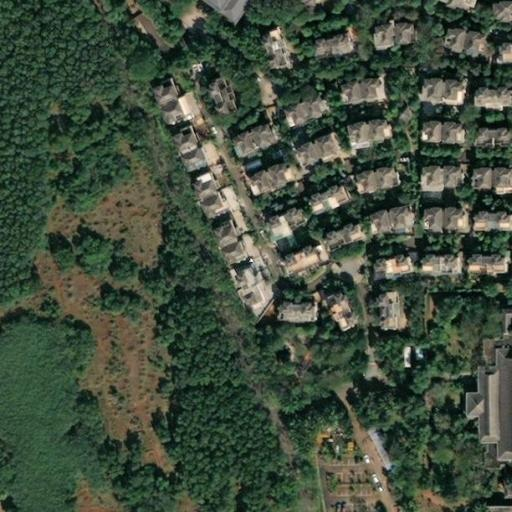building: (457, 333, 512, 465), (129, 5, 175, 54), (163, 114, 200, 163), (204, 211, 238, 260), (184, 161, 218, 210), (274, 86, 320, 120), (286, 125, 332, 159), (238, 154, 284, 188), (222, 115, 268, 148), (146, 69, 179, 112), (258, 199, 298, 233), (300, 176, 339, 208), (339, 110, 382, 139), (319, 283, 350, 323), (436, 19, 478, 48), (253, 21, 281, 64), (357, 425, 385, 468), (333, 71, 375, 99), (347, 160, 390, 187), (274, 236, 313, 265), (366, 12, 407, 39), (227, 259, 254, 299), (304, 24, 343, 51), (361, 199, 403, 224), (317, 214, 354, 242), (200, 68, 226, 107), (461, 248, 499, 273), (465, 160, 506, 183), (416, 199, 454, 223), (413, 73, 453, 95), (413, 159, 454, 180), (365, 248, 404, 270), (414, 248, 451, 270), (415, 115, 454, 135), (467, 202, 499, 224), (466, 79, 503, 98), (369, 286, 388, 322), (272, 295, 307, 314), (468, 121, 501, 140), (417, 289, 435, 322), (489, 36, 512, 55), (484, 500, 511, 511), (499, 295, 512, 313), (484, 0, 509, 9), (396, 347, 404, 368), (407, 348, 415, 359), (395, 317, 403, 325)
